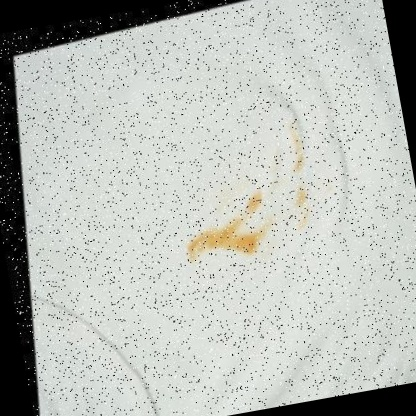kimchi: (178, 215, 267, 264), (284, 117, 313, 174), (289, 177, 316, 233), (244, 190, 275, 218)
